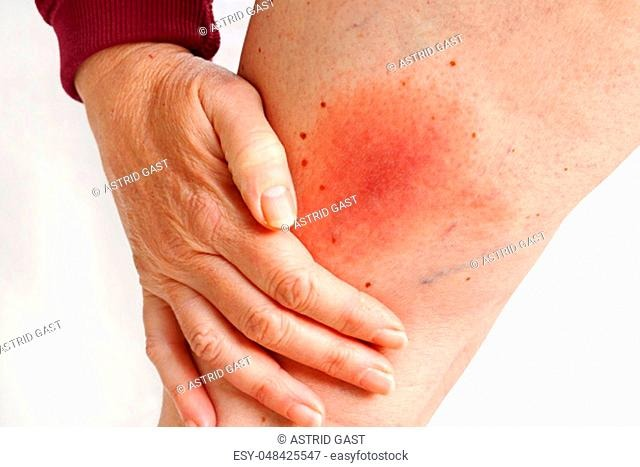Ringworm: (268, 44, 503, 296)
